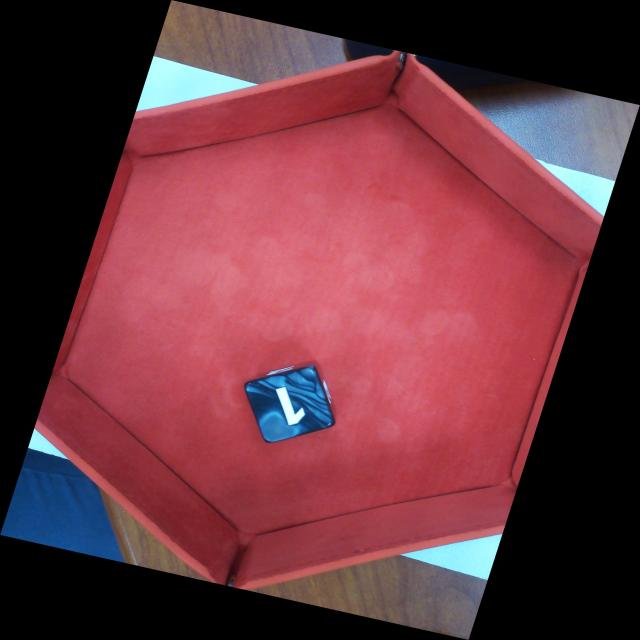dice: (249, 365, 337, 442)
